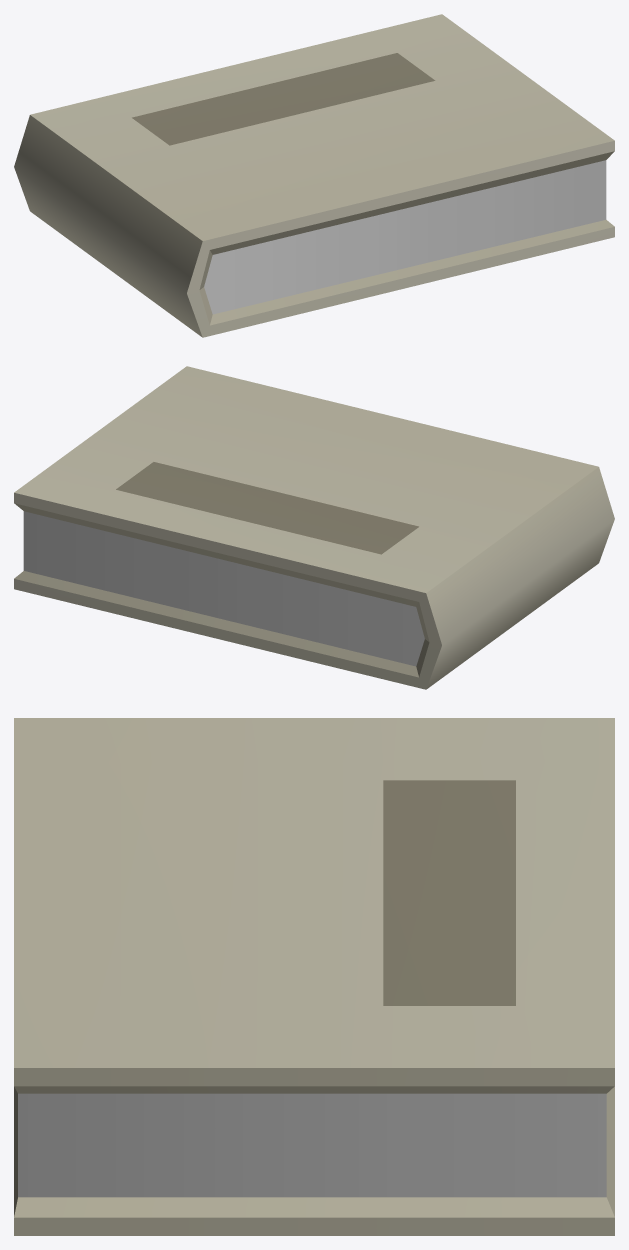
The model's file is CR_Book_001.FBX.
The picture shows the model from 3 angles, top to bottom: view 1: azimuth 30°, elevation 25°; view 2: azimuth 150°, elevation 25°; view 3: azimuth 270°, elevation 25°; orthographic projection. The views are drawn at different scales.
Parts seen in each view (by area): view 1: CR_Book_001; view 2: CR_Book_001; view 3: CR_Book_001.
Part boxes in pixels (box(x1,y1,x2,y2)): CR_Book_001: box(14, 14, 614, 337); CR_Book_001: box(14, 366, 614, 689); CR_Book_001: box(14, 718, 614, 1235).
Bounding box in the file's own units: 16.09 × 3.47 × 11.25.
Materials: 1 (1 with a texture image).
